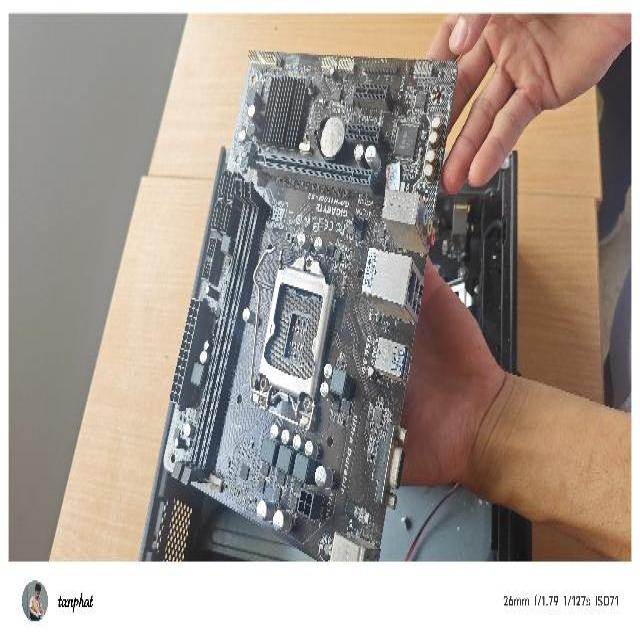Mainboard: (162, 33, 459, 563)
